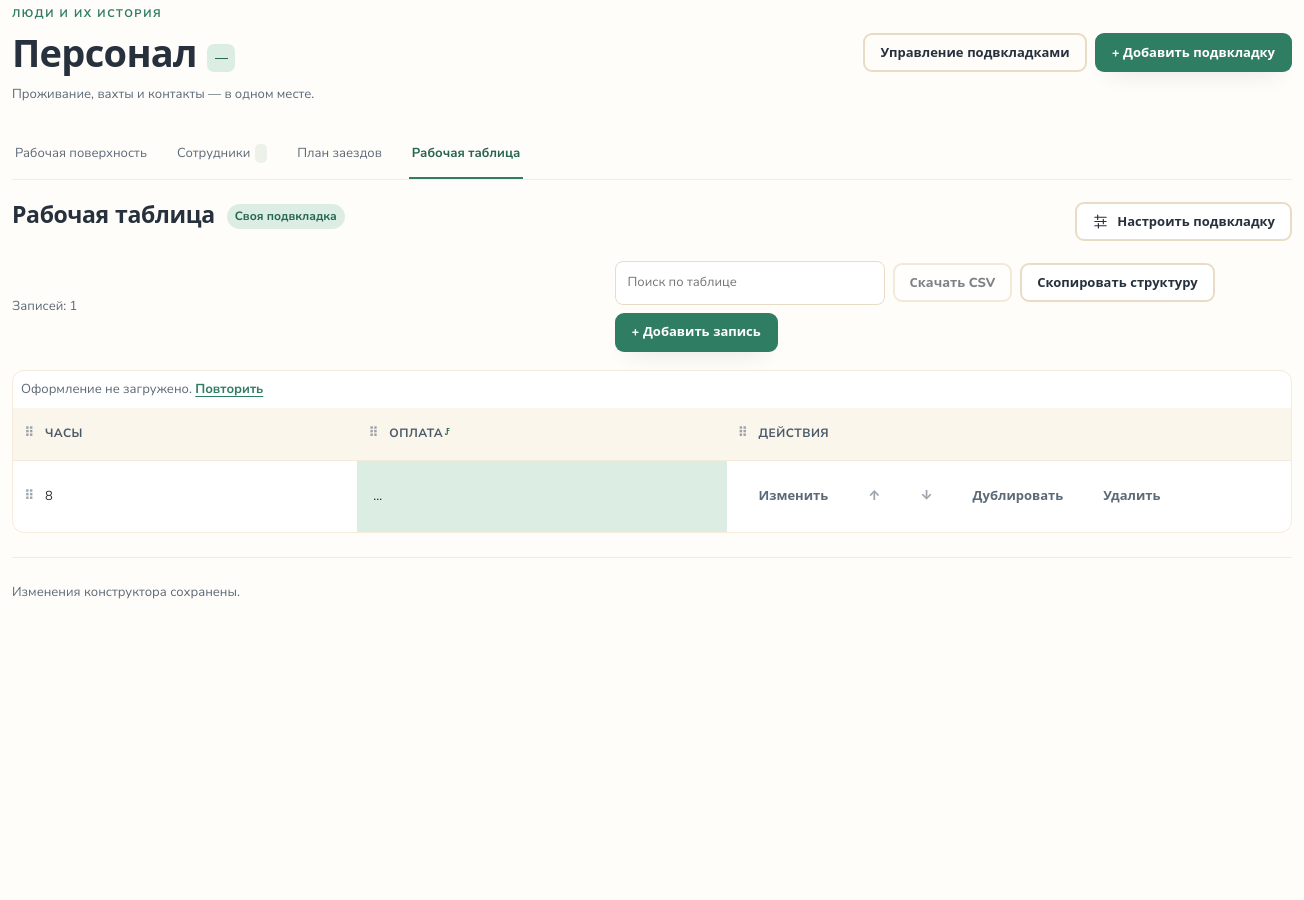
Test case: Рабочий конструктор организации › не перезапрашивает карточки конструктора при возврате на свою подвкладку
Expected: the table named "Рабочая таблица" is shown, [13,408,1291,532]
Click the tab "Рабочая поверхность" at (81, 154), box [12,130,150,179]
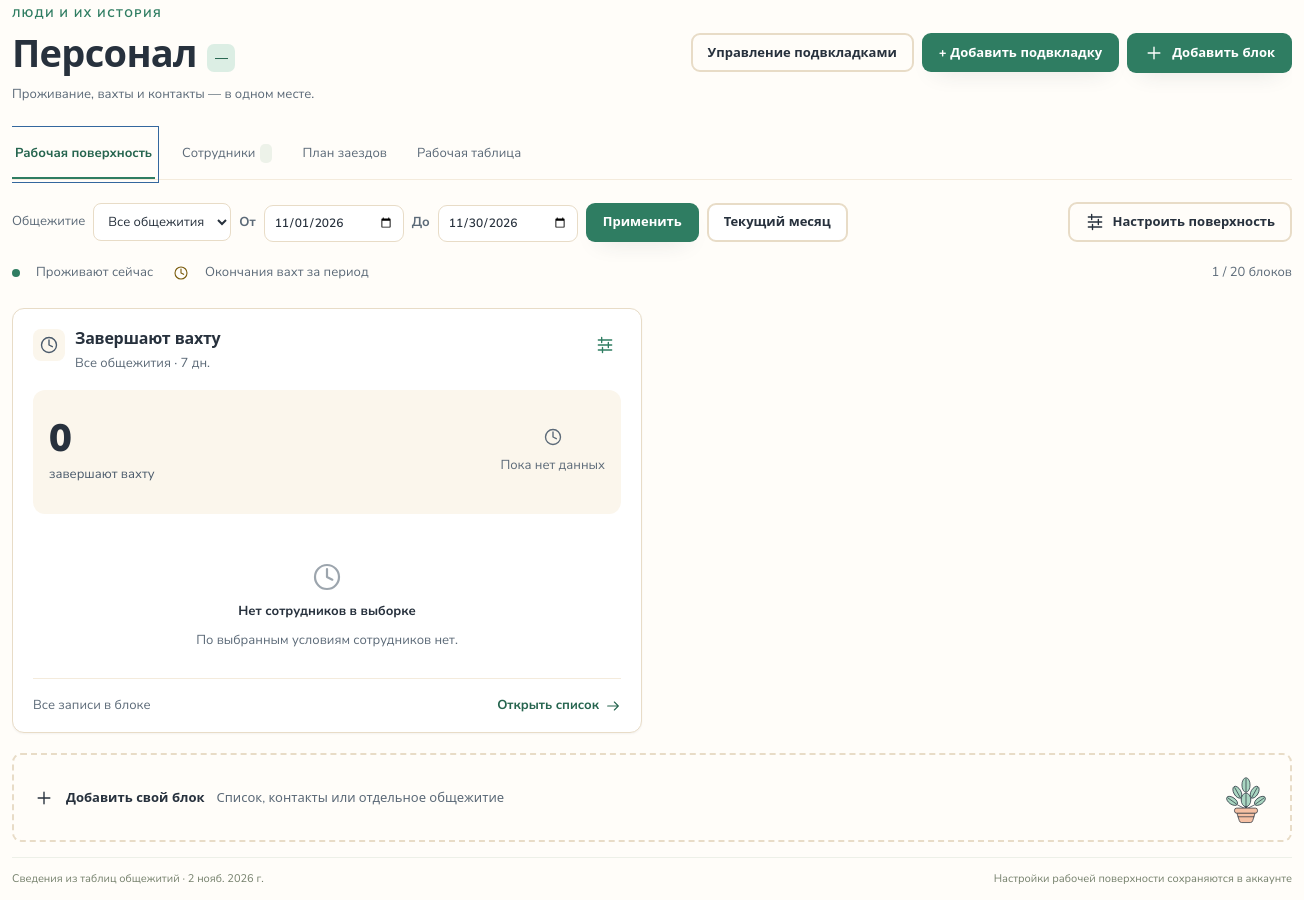
Click the tab "Рабочая таблица" at (469, 154), box [414,130,524,179]
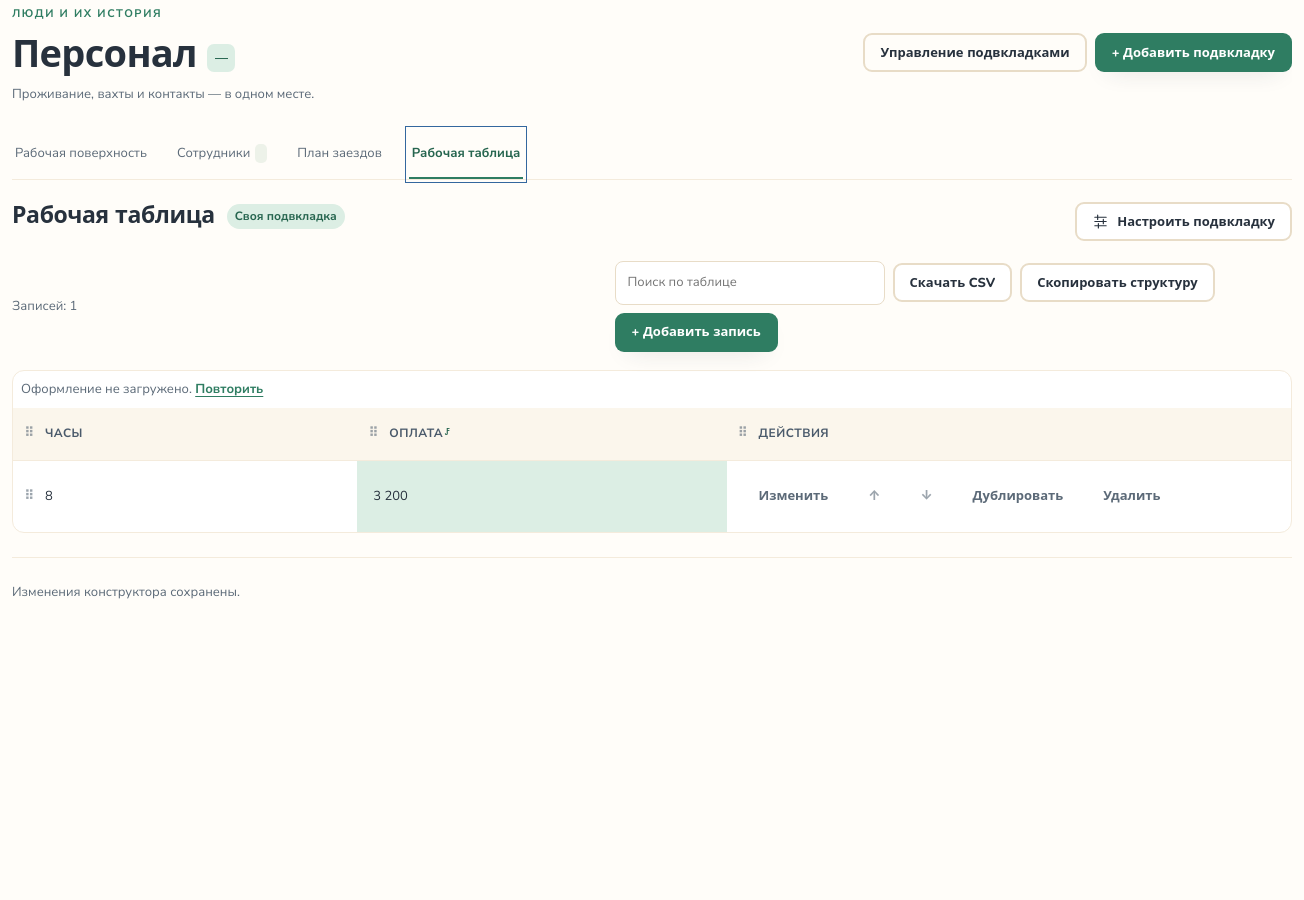
Result: the table named "Рабочая таблица" is shown at [13,408,1291,532]
